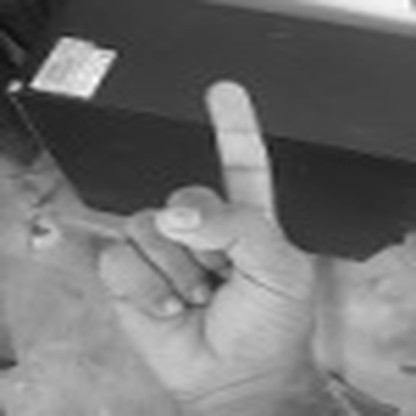d: (93, 73, 320, 395)
